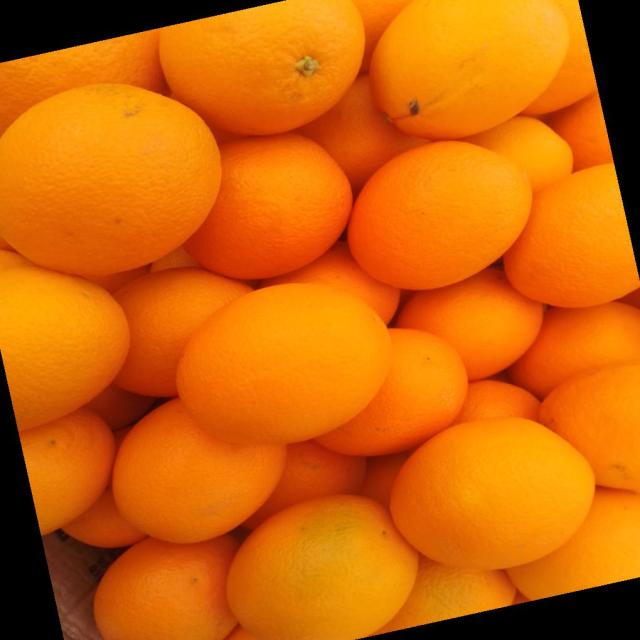fresh orange: (2, 1, 637, 636), (383, 391, 610, 586), (3, 85, 218, 274), (166, 289, 391, 449), (219, 487, 431, 640), (386, 248, 560, 402), (349, 140, 530, 288), (160, 3, 362, 135), (370, 1, 566, 137), (184, 135, 348, 279), (113, 400, 279, 542), (2, 262, 126, 431), (507, 163, 635, 305), (528, 344, 640, 505), (111, 268, 249, 398), (95, 536, 242, 638), (304, 77, 434, 190), (18, 407, 113, 537), (269, 249, 402, 329), (465, 116, 574, 194)
